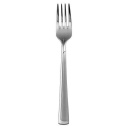fork: (50, 1, 83, 128)
